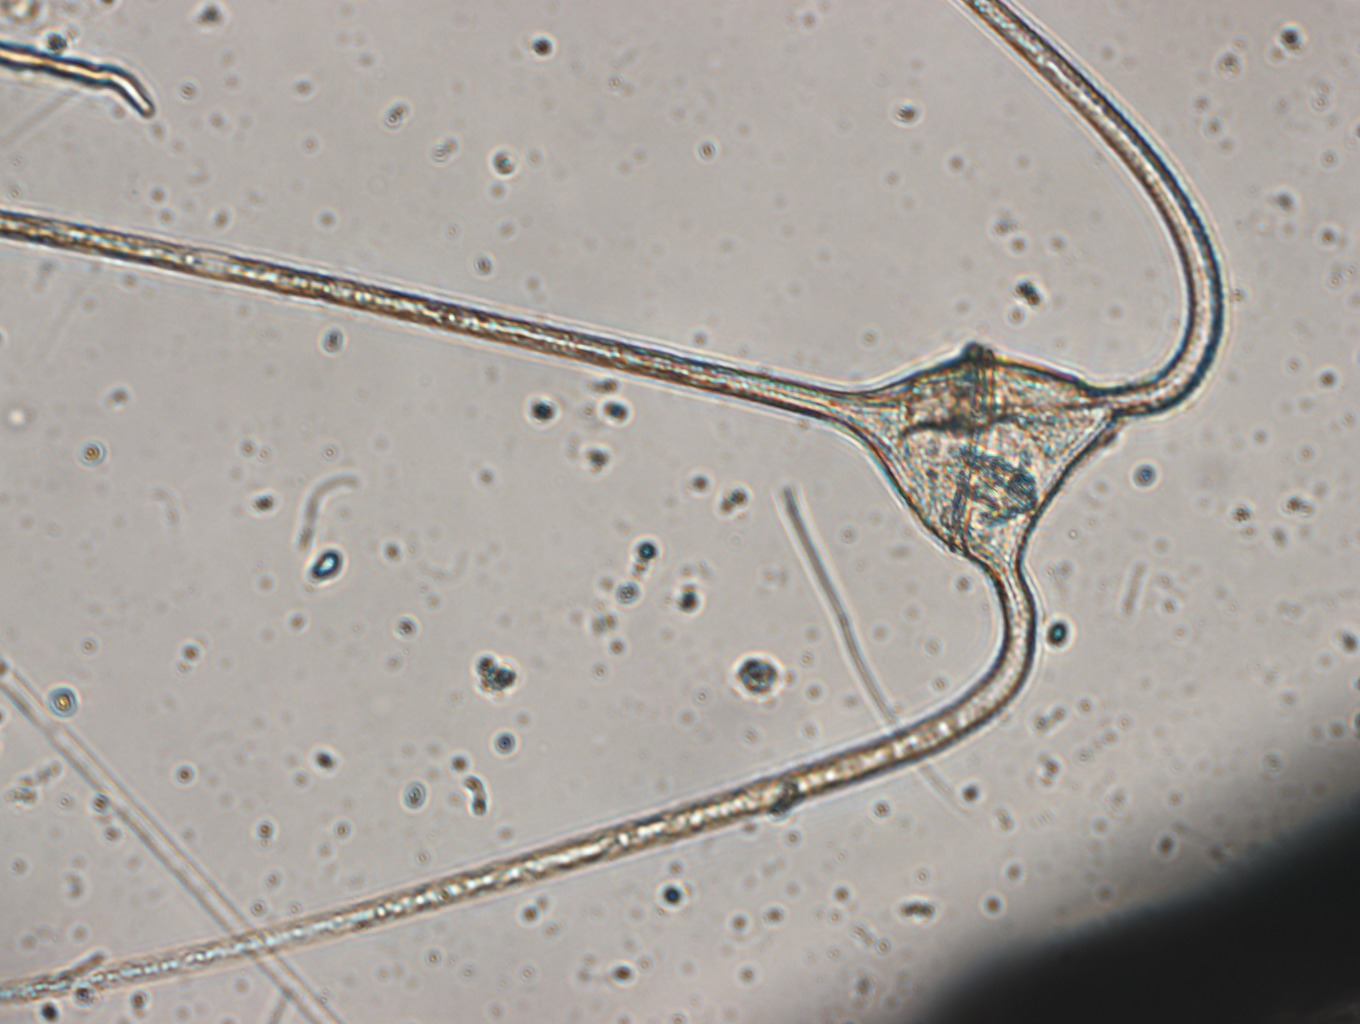ceratium trichoceros: (2, 1, 1242, 1002)
